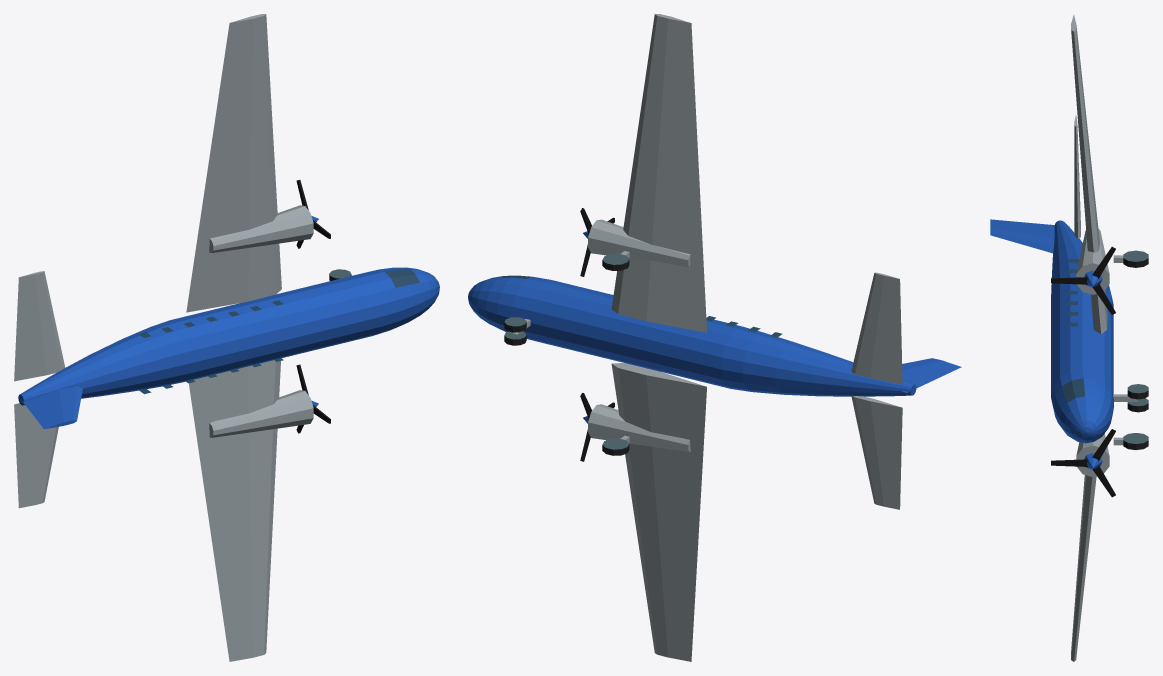
3 views of the same model, side by side, from view 1: azimuth 30°, elevation 25°; view 2: azimuth 150°, elevation 25°; view 3: azimuth 270°, elevation 25° (orthographic).
Visible parts, largest first — view 1: default_fuselage, default_wing1, default_wing-1, default_tailplane1, default_tailplane-1, default_engine2.4-1, default_engine2.41, default_fin1; view 2: default_fuselage, default_wing1, default_wing-1, default_tailplane1, default_tailplane-1, default_engine2.41, default_engine2.4-1, default_fin1; view 3: default_fuselage, default_wing1, default_wing-1, default_fin1, default_engine2.41, default_tailplane1, default_engine2.4-1, default_main1_wheel0.0, default_main-1_wheel0.0, default_nose_gear_wheel0.17, default_engine2.4-1_blade0, default_engine2.41_blade0.
Part boxes in pixels (left/top/right/bottom): default_fuselage: left=18, top=267, right=439, bottom=405; default_wing1: left=186, top=14, right=281, bottom=312; default_wing-1: left=189, top=360, right=280, bottom=661; default_tailplane1: left=14, top=271, right=65, bottom=381; default_tailplane-1: left=14, top=403, right=58, bottom=508; default_engine2.4-1: left=209, top=390, right=313, bottom=437; default_engine2.41: left=209, top=205, right=313, bottom=252; default_fin1: left=22, top=386, right=82, bottom=428; default_fuselage: left=468, top=275, right=916, bottom=396; default_wing1: left=611, top=14, right=706, bottom=332; default_wing-1: left=611, top=363, right=706, bottom=661; default_tailplane1: left=851, top=272, right=902, bottom=384; default_tailplane-1: left=851, top=396, right=902, bottom=509; default_engine2.41: left=588, top=219, right=690, bottom=267; default_engine2.4-1: left=588, top=404, right=690, bottom=451; default_fin1: left=899, top=358, right=961, bottom=392; default_fuselage: left=1051, top=220, right=1113, bottom=443; default_wing1: left=1071, top=14, right=1107, bottom=334; default_wing-1: left=1071, top=475, right=1096, bottom=661; default_fin1: left=990, top=219, right=1069, bottom=253; default_engine2.41: left=1076, top=228, right=1109, bottom=294; default_tailplane1: left=1074, top=115, right=1080, bottom=238; default_engine2.4-1: left=1076, top=433, right=1109, bottom=477; default_main1_wheel0.0: left=1123, top=250, right=1148, bottom=267; default_main-1_wheel0.0: left=1123, top=433, right=1148, bottom=449; default_nose_gear_wheel0.17: left=1127, top=384, right=1148, bottom=399; default_engine2.4-1_blade0: left=1051, top=459, right=1087, bottom=466; default_engine2.41_blade0: left=1051, top=277, right=1087, bottom=284.
Size of the model in its own units: 12.05 by 16.6 by 3.79.
